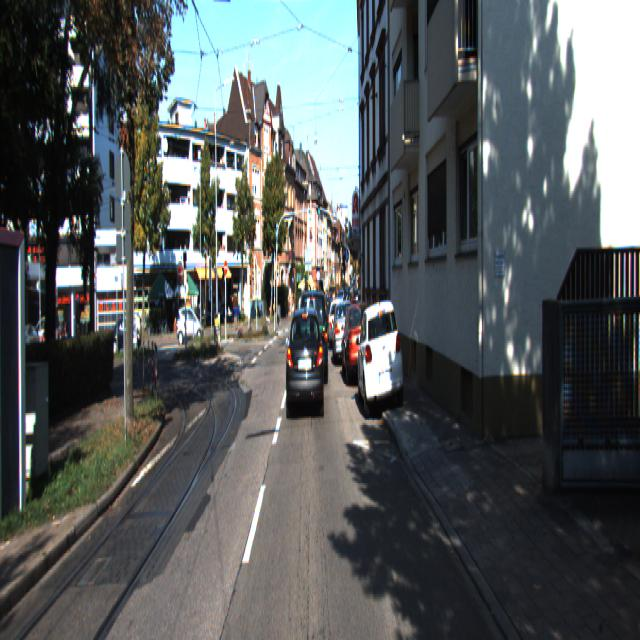Car: (357, 297, 404, 425), (286, 302, 324, 423), (340, 302, 375, 393), (298, 288, 328, 390), (332, 300, 355, 370), (175, 308, 203, 346)
